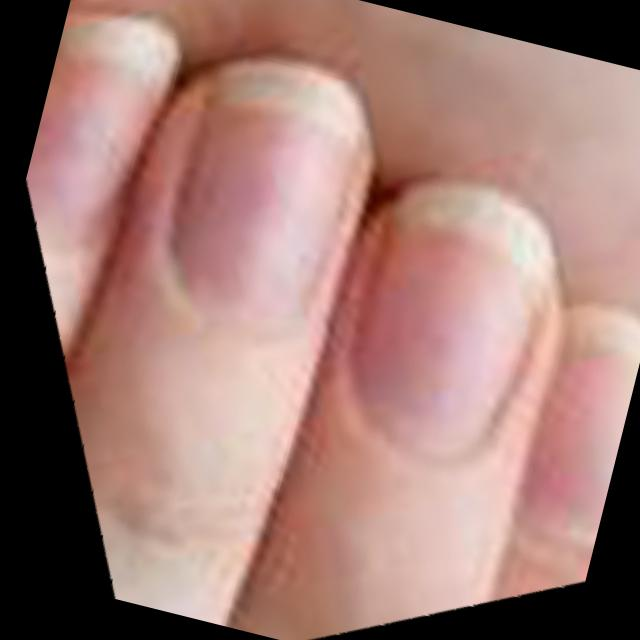Nail: (354, 180, 558, 460), (175, 63, 370, 329), (25, 13, 183, 242), (512, 303, 640, 560)
